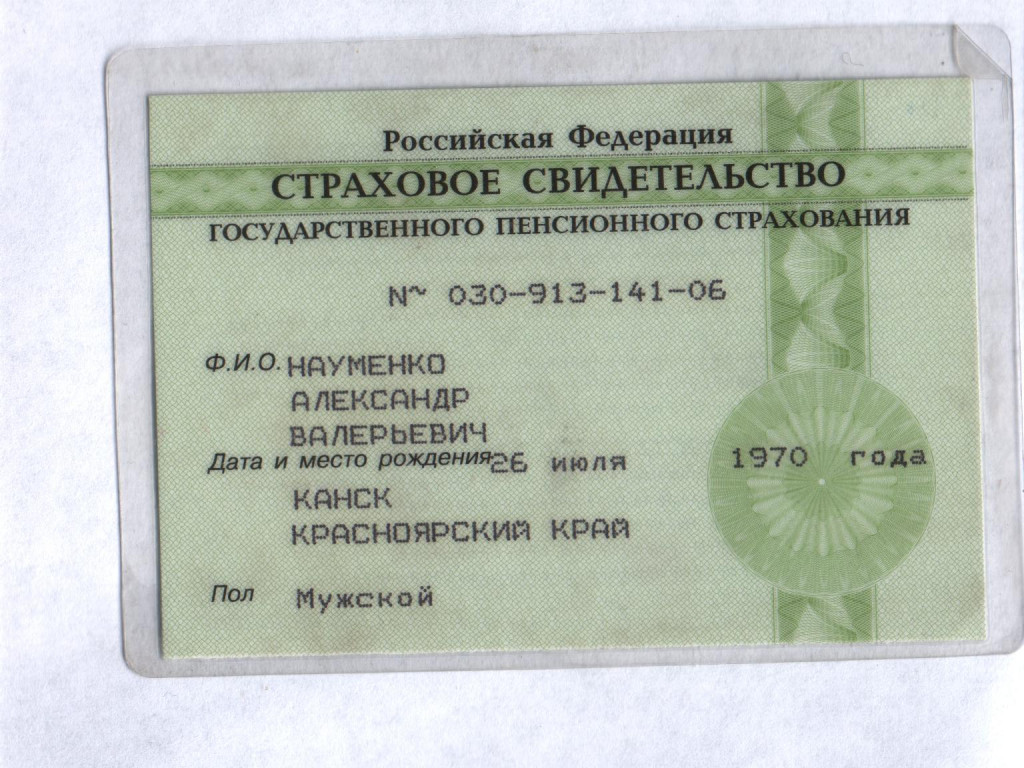text: (287, 482, 637, 546), (439, 273, 739, 311), (724, 439, 929, 471), (283, 417, 493, 447), (285, 381, 473, 411), (285, 579, 441, 614), (284, 349, 457, 380), (490, 446, 632, 478)
